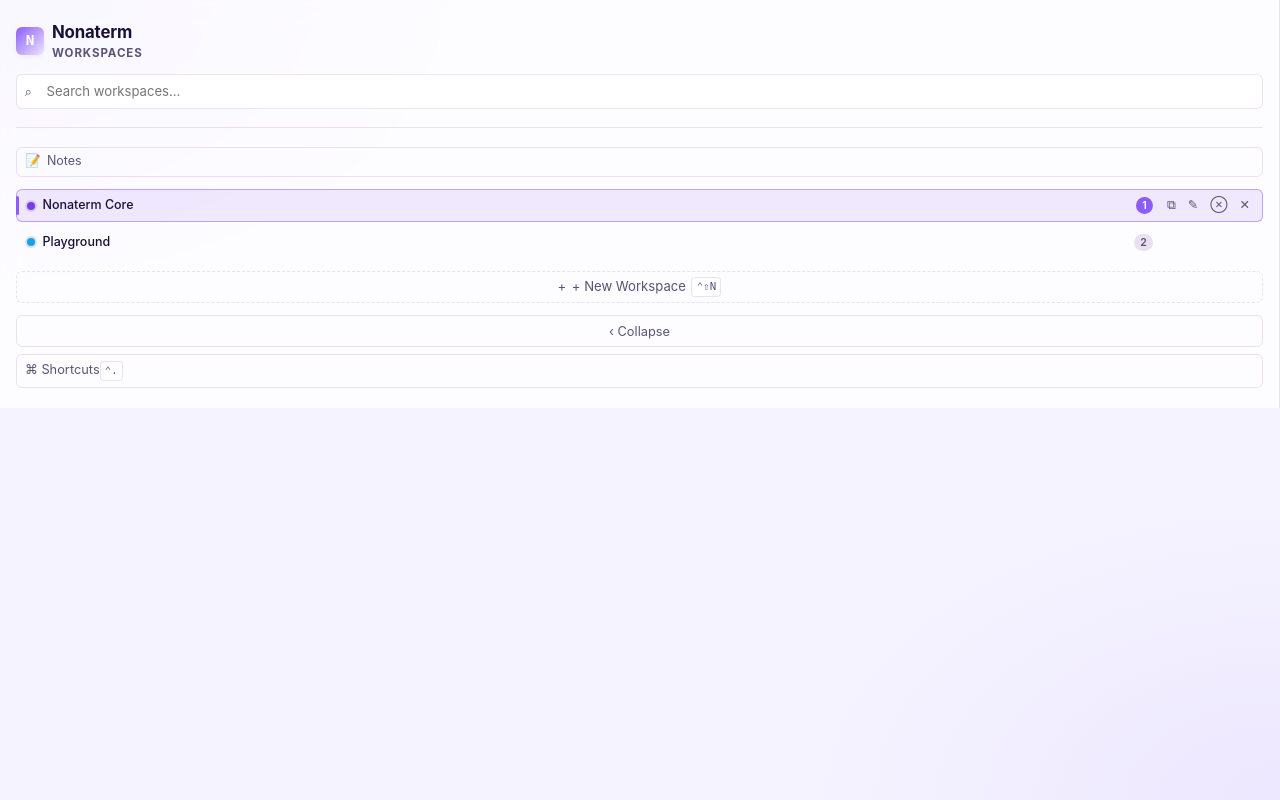
WorkspaceSidebar QA smoke › shows in-app delete confirmation instead of window.confirm
Click the button "✕". click: (1245, 206)
box: 1234,194 -> 1256,218
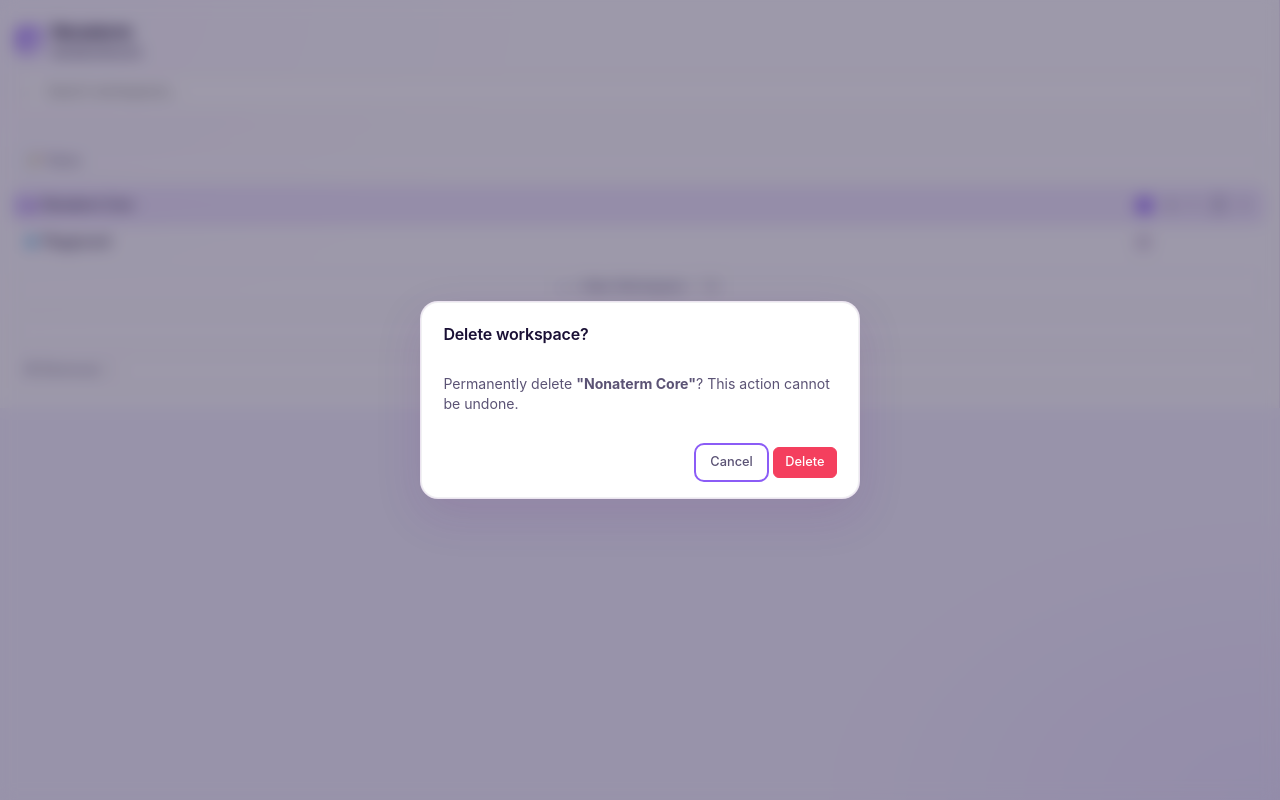
Result: the dialog "Delete workspace?" is shown at 420,301 -> 860,499
